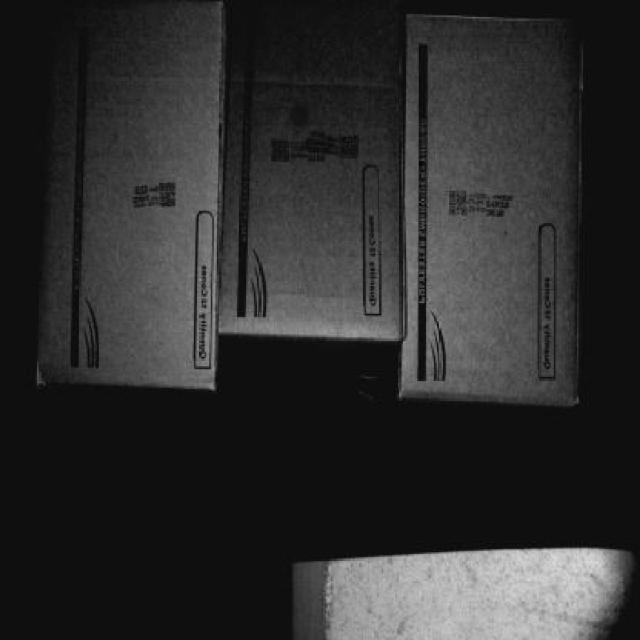cardboxes: (30, 4, 212, 382), (403, 12, 579, 402), (223, 32, 394, 337)
